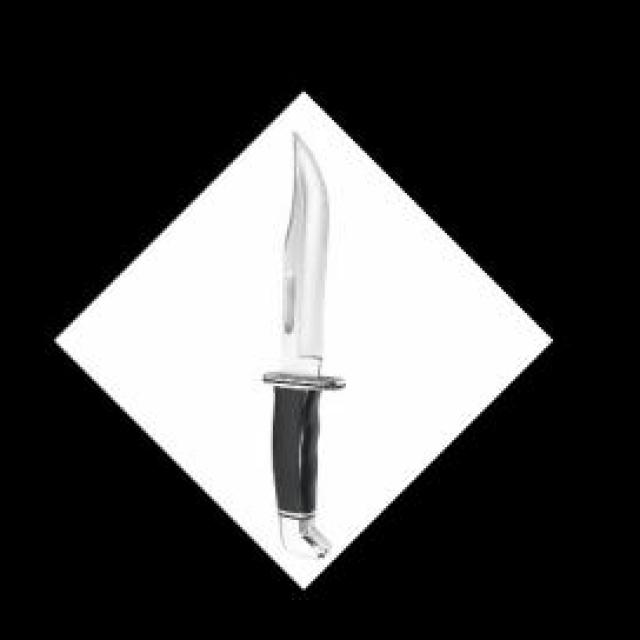knife: (275, 138, 333, 560)
